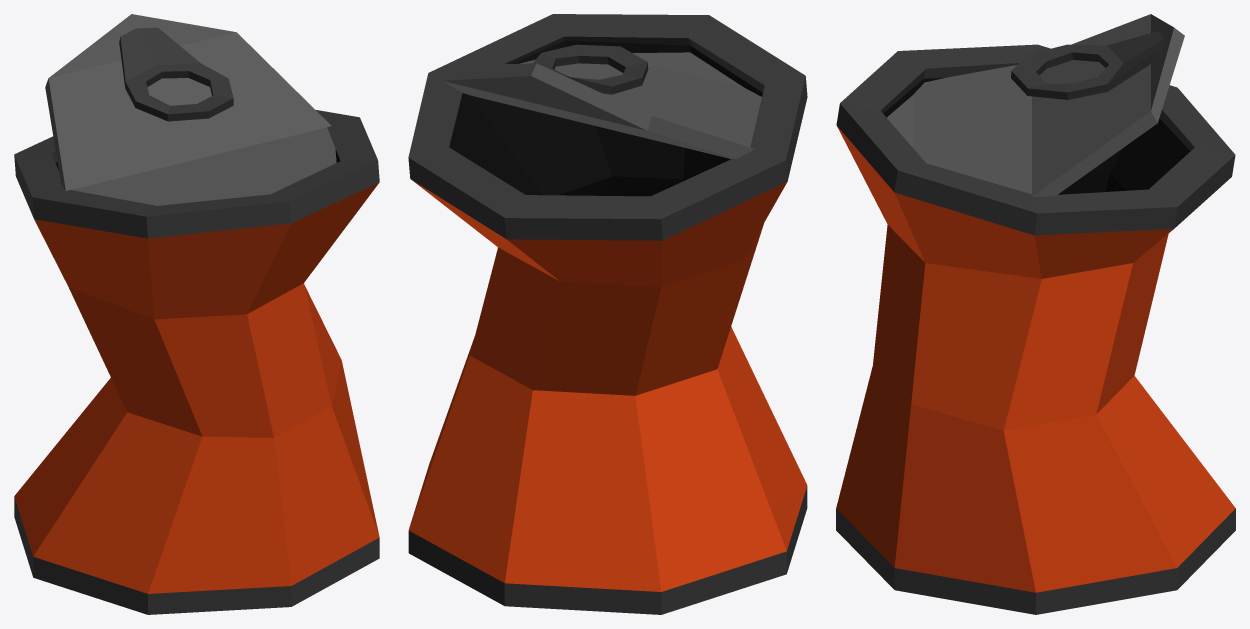
The model's file is TinCan-Squashed.fbx.
The picture shows the model from 3 angles, left to right: view 1: azimuth 30°, elevation 25°; view 2: azimuth 150°, elevation 25°; view 3: azimuth 270°, elevation 25°; orthographic projection. The views are drawn at different scales.
Parts seen in each view (by area): view 1: TinCanSquashed; view 2: TinCanSquashed; view 3: TinCanSquashed.
Part boxes in pixels (left/top/right/bottom): TinCanSquashed: left=14, top=14, right=379, bottom=614; TinCanSquashed: left=408, top=14, right=807, bottom=614; TinCanSquashed: left=836, top=14, right=1235, bottom=614.
Bounding box in the file's own units: 88.93 × 88.93 × 123.
